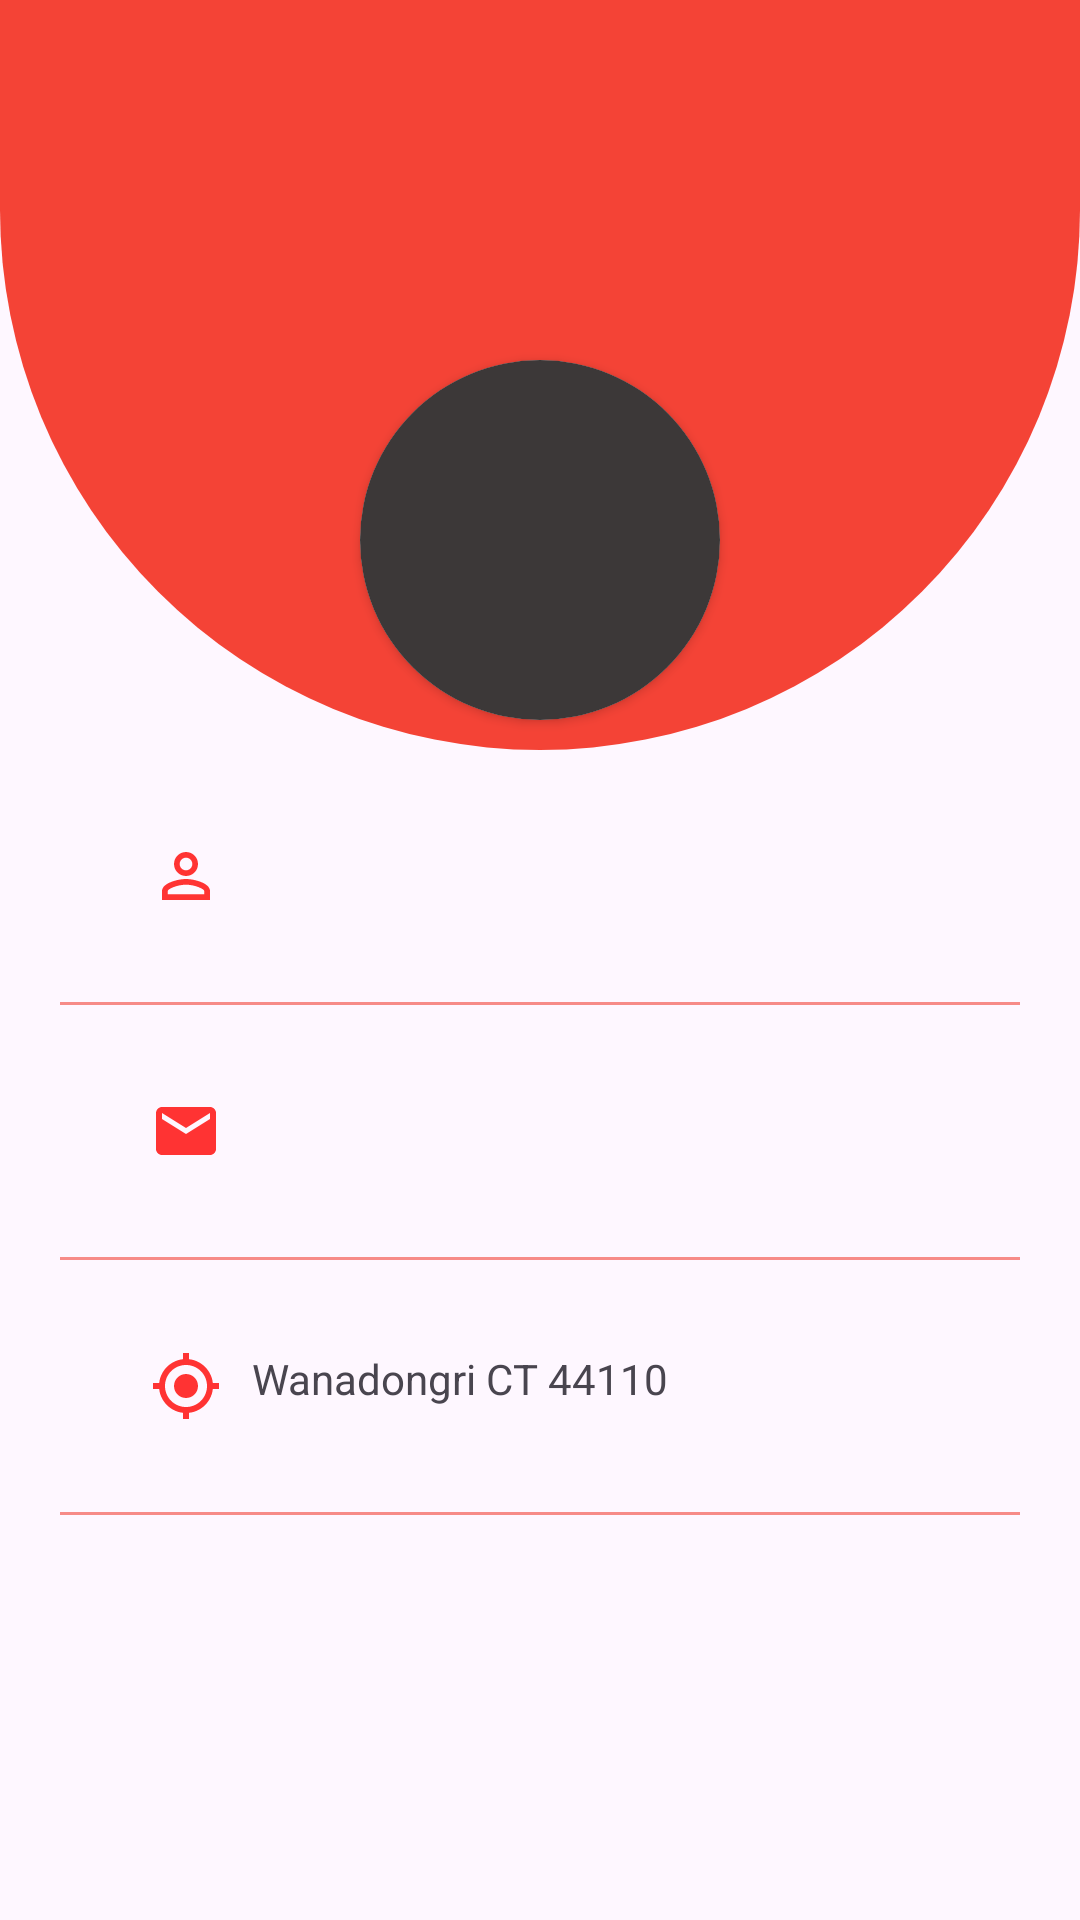

Icons on this 1080*1920 Android screen, each with the point to tap as [x,y]:
location: [186,1386]
mail: [186,1131]
person: [186,876]
